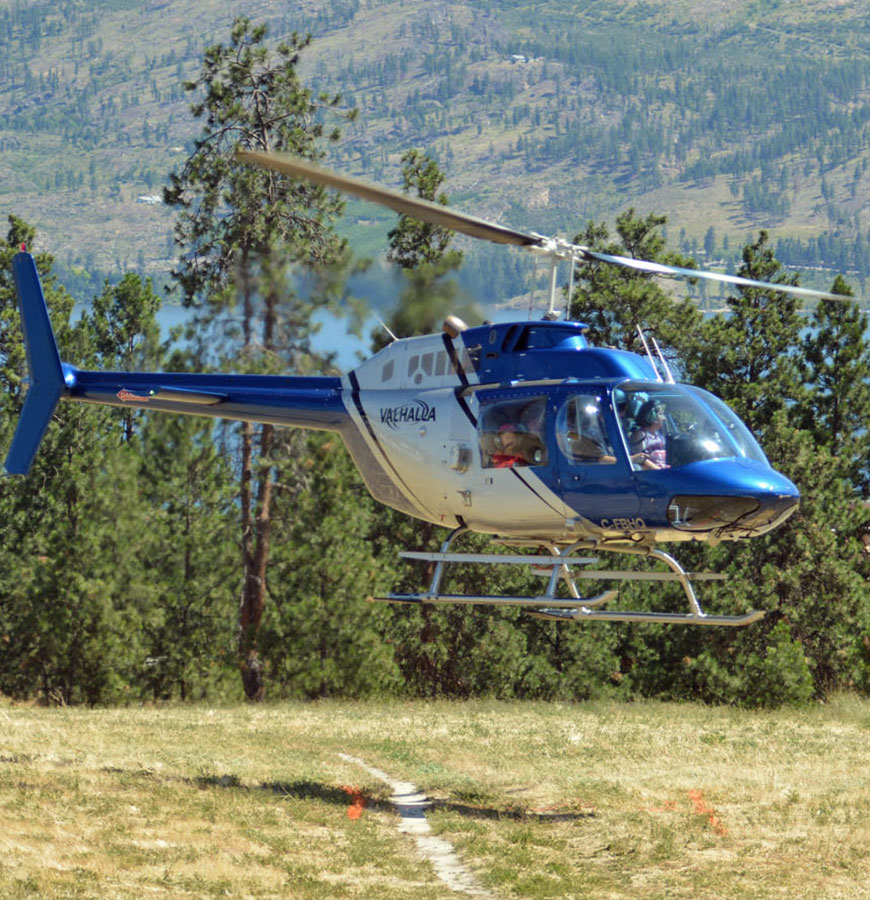Helicopter: (9, 235, 807, 643)
